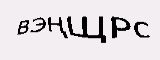В: (15, 18, 29, 34)
Р: (111, 14, 130, 41)
С: (133, 20, 154, 40)
Щ: (65, 14, 109, 44)
Э: (29, 15, 45, 34)
Ң: (47, 14, 68, 37)
